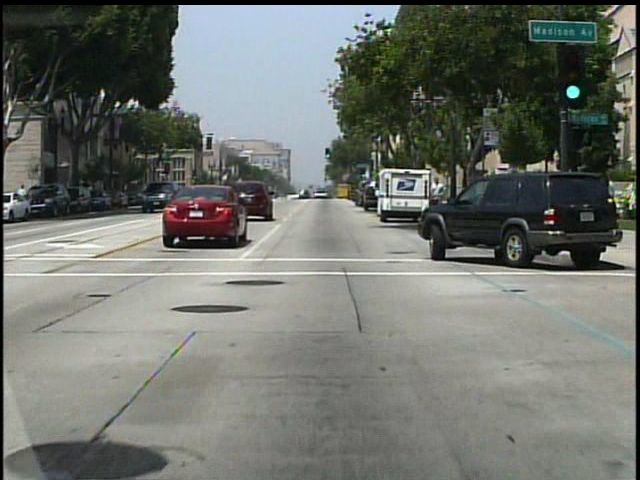person: (427, 175, 447, 221), (350, 183, 365, 210), (19, 181, 30, 209)
